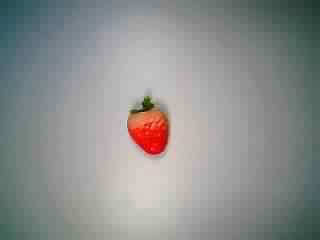strawberry: (113, 95, 181, 159)
